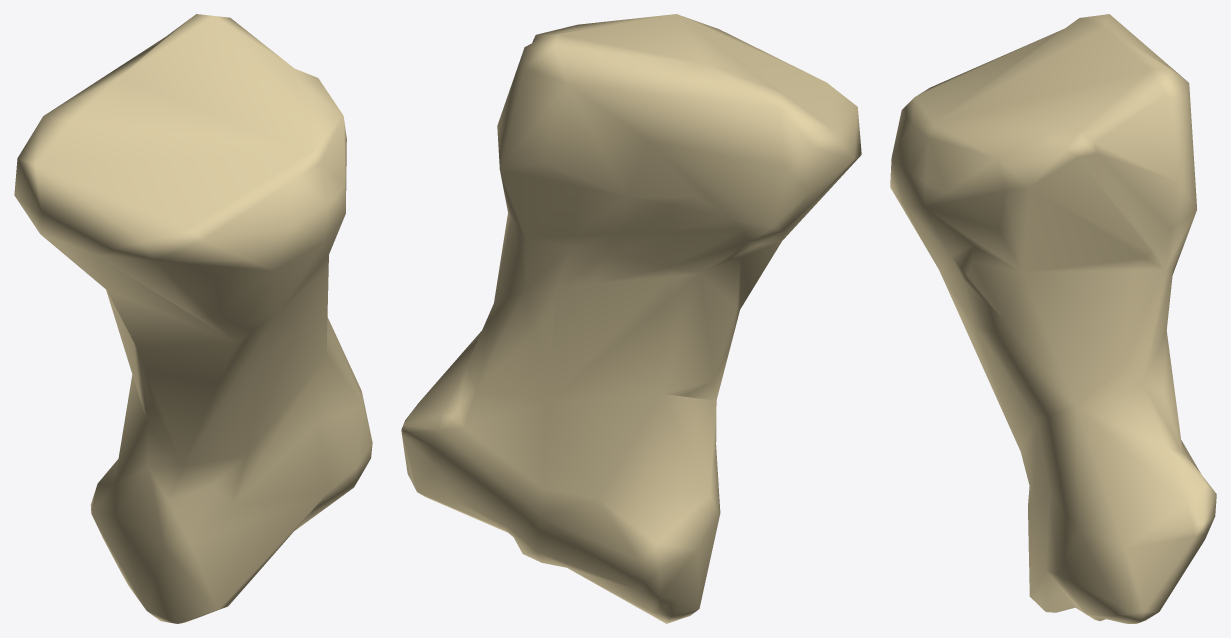
The picture shows the model from 3 angles, left to right: view 1: azimuth 30°, elevation 25°; view 2: azimuth 150°, elevation 25°; view 3: azimuth 270°, elevation 25°; orthographic projection. The views are drawn at different scales.
Visible parts, largest first — view 1: 左侧第二趾中节趾骨; view 2: 左侧第二趾中节趾骨; view 3: 左侧第二趾中节趾骨.
Boxes of the visible parts, box(x1,y1,x2,y2) form: 左侧第二趾中节趾骨: box(14, 14, 372, 623); 左侧第二趾中节趾骨: box(401, 14, 861, 623); 左侧第二趾中节趾骨: box(890, 14, 1216, 623).
Bounding box in the file's own units: 0.0182 × 0.026 × 0.0134.
